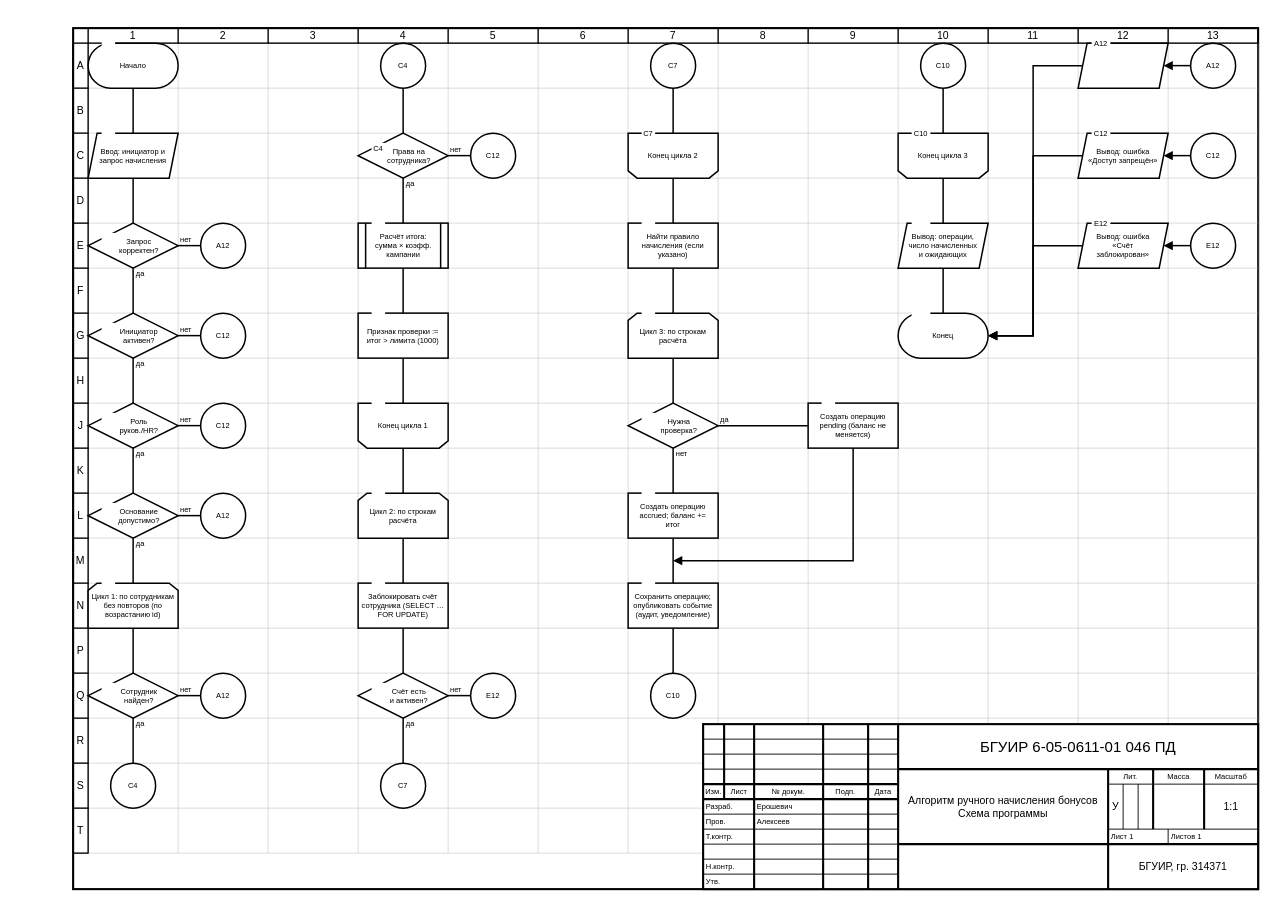
Some shapes in this 1286 by 917 pixel diagram are drawn without their labels. Here are the shapes that lost their labels. From the top down, the centre of each, then its label:
At (108,44): "A1".
At (1122,65): "Вывод: ошибка «Некорректный запрос»".
At (108,133): "C1".
At (108,237): "E1".
At (378,223): "E4".
At (648,223): "E7".
At (920,223): "E10".
At (108,327): "G1".
At (378,313): "G4".
At (648,313): "G7".
At (920,314): "G10".
At (108,417): "J1".
At (378,403): "J4".
At (648,417): "J7".
At (828,403): "J9".
At (108,507): "L1".
At (378,493): "L4".
At (648,493): "L7".
At (108,583): "N1".
At (378,583): "N4".
At (648,583): "N7".
At (108,687): "Q1".
At (378,687): "Q4".
